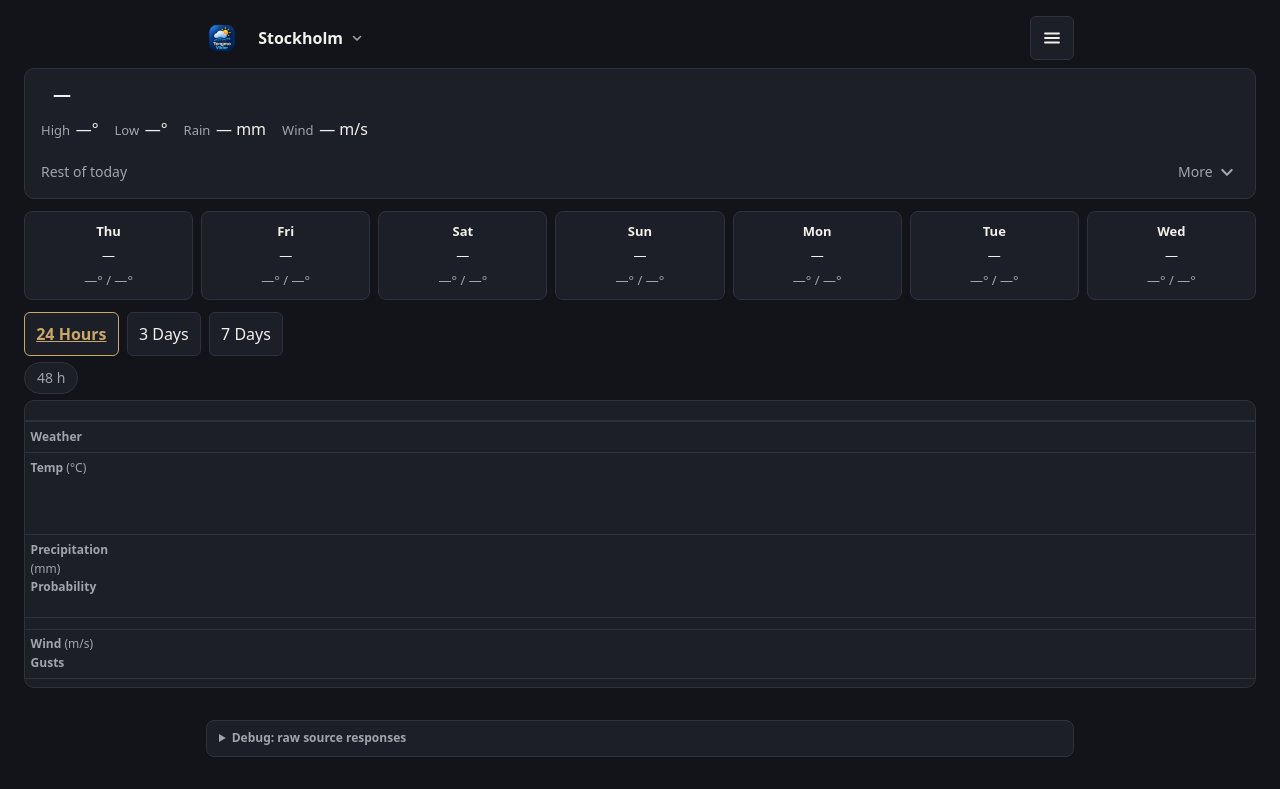
Scenario: Header overflow menu › opens on click, moves focus to the first item and exposes menu semantics
Click the button named "Menu": [1052, 38] box top-left (1030, 16), bottom-right (1074, 60)
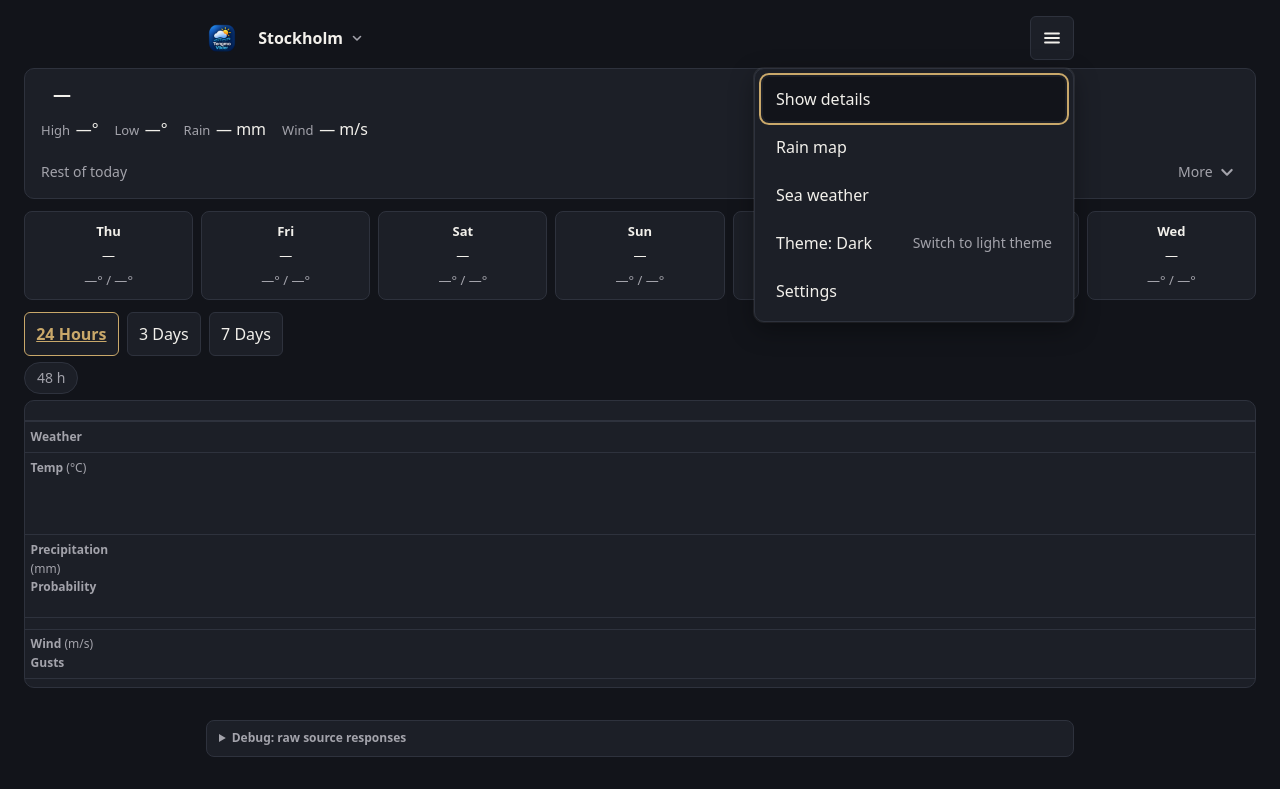
Expected: the menu is shown, top-left (763, 77), bottom-right (1065, 313)
